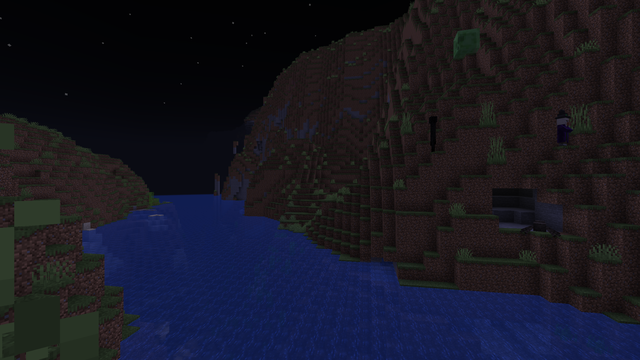araignees: (521, 218, 558, 235)
endermens: (428, 114, 437, 150)
slimes: (452, 27, 480, 58)
sorcieres: (554, 116, 570, 145)
